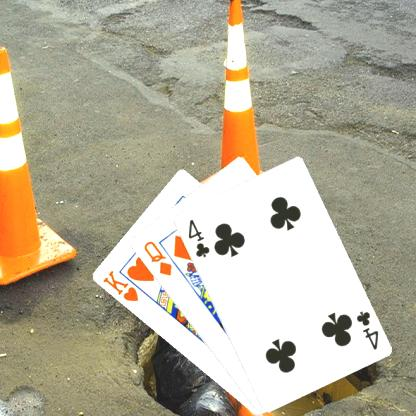4C: (353, 308, 380, 351), (185, 216, 211, 259)
KH: (99, 268, 140, 303)
QD: (140, 237, 174, 278)
